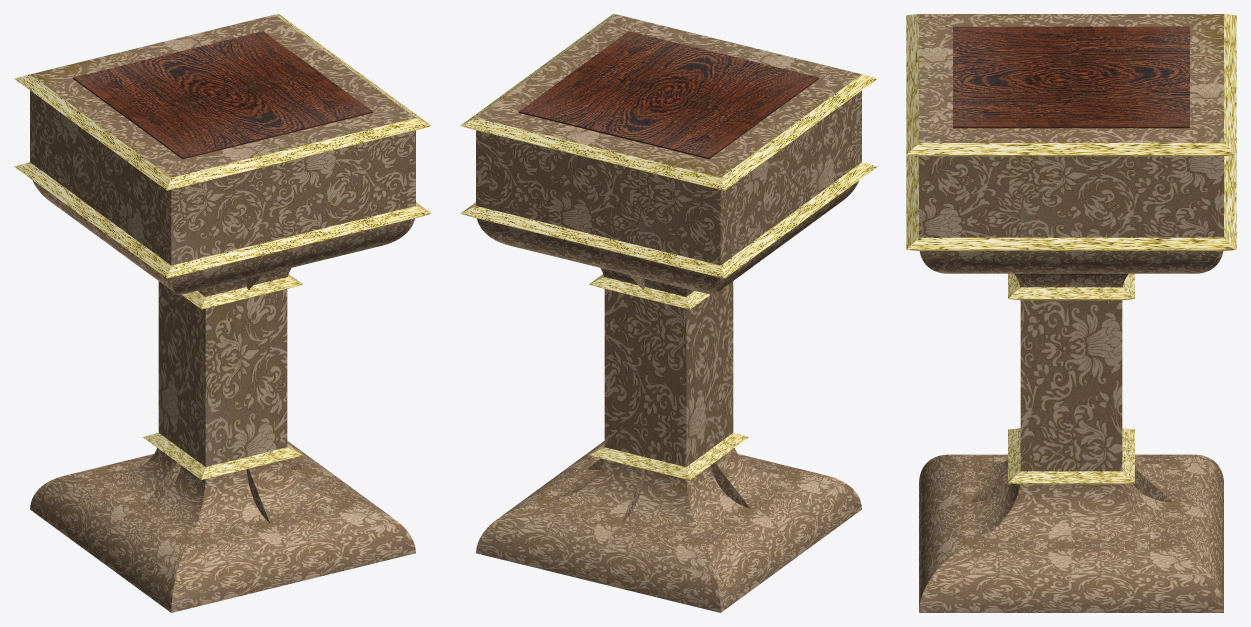
The model's file is table.fbx.
3 renders of one model, left to right at view 1: azimuth 30°, elevation 25°; view 2: azimuth 150°, elevation 25°; view 3: azimuth 270°, elevation 25°, orthographic. The views are drawn at different scales.
Visible parts, largest first — view 1: body, platform; view 2: body, platform; view 3: body, platform.
Part boxes in pixels (left/top/right/bottom): body: left=14, top=14, right=431, bottom=612; platform: left=73, top=31, right=372, bottom=159; body: left=460, top=14, right=877, bottom=612; platform: left=519, top=31, right=818, bottom=159; body: left=906, top=14, right=1236, bottom=612; platform: left=953, top=26, right=1189, bottom=128.
Size of the model in its own units: 1950 by 3073 by 1950.
Materials: 3 (3 with a texture image).
